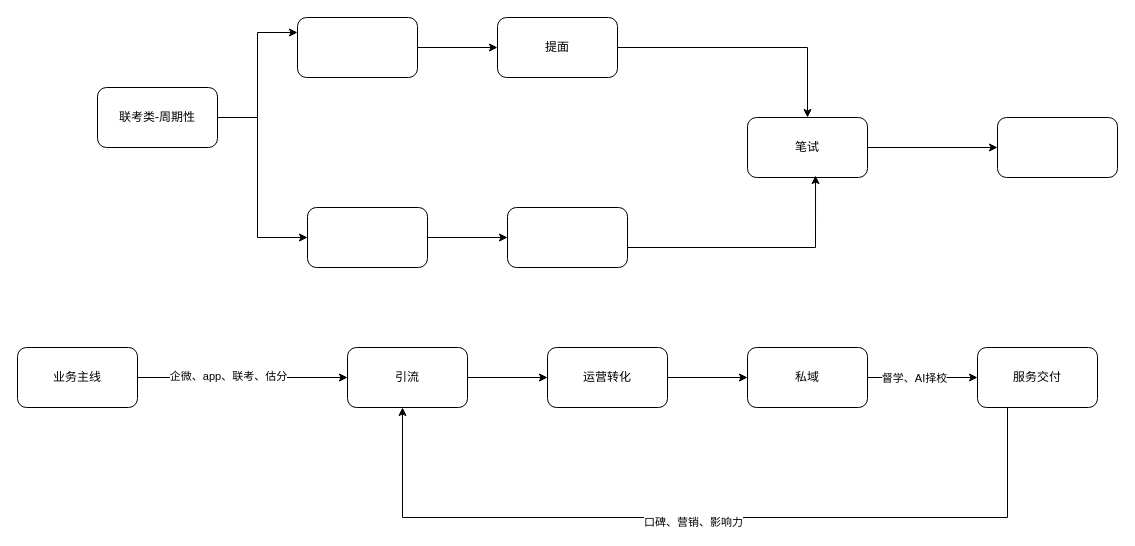
The diagram is 1135 pixels wide and 546 high, and some of its shapes have lost their labels. The shapes that lost their labels are listed below. From the top down, each one's centre as x and y in pixels, then its label:
the point at 357,47: MBA-在职
the point at 1057,147: 复试
the point at 367,237: MPAcc-在校
the point at 567,237: 择校
